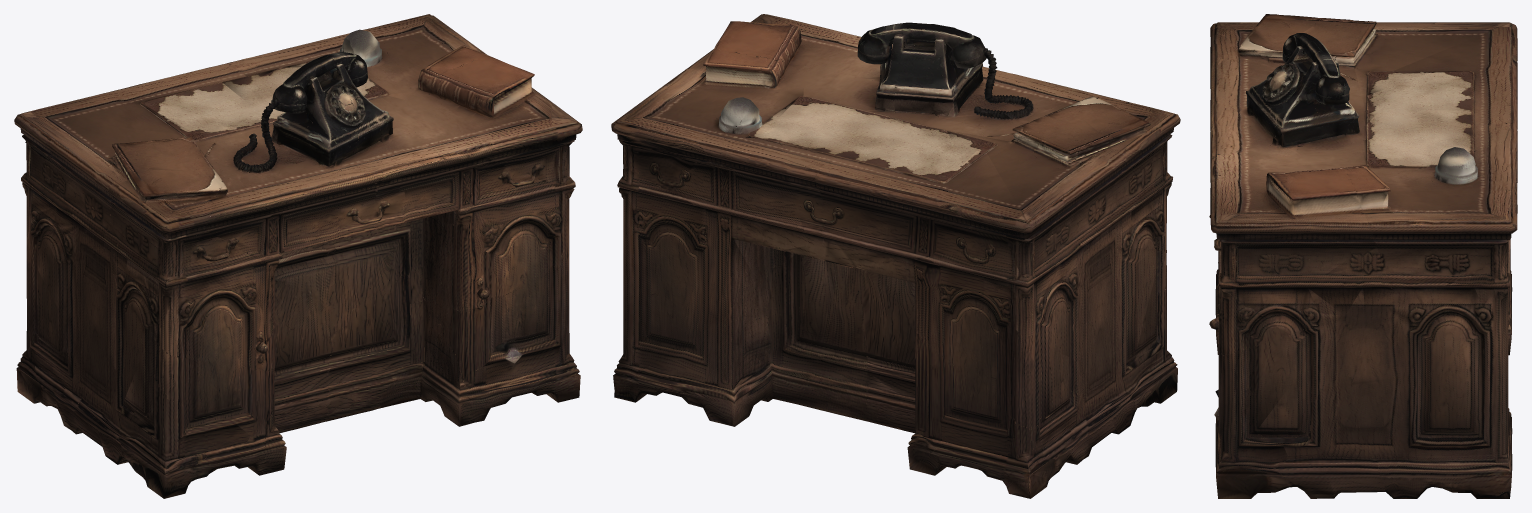
The model's file is mesa_telefone_leve2.glb.
The picture shows the model from 3 angles, left to right: view 1: azimuth 30°, elevation 25°; view 2: azimuth 150°, elevation 25°; view 3: azimuth 270°, elevation 25°; orthographic projection.
Visible parts, largest first — view 1: mesh_node; view 2: mesh_node; view 3: mesh_node.
Boxes of the visible parts, bbox=[...] form: mesh_node: bbox=[14, 14, 582, 498]; mesh_node: bbox=[611, 14, 1180, 498]; mesh_node: bbox=[1209, 14, 1517, 498].
Bounding box in the file's own units: 1.9 × 1.52 × 1.21.
Materials: 1 (1 with a texture image).
